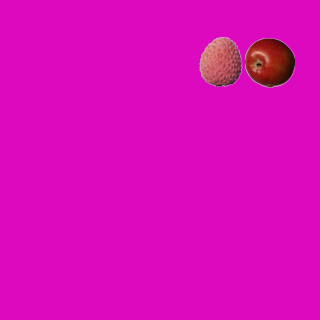Apple Braeburn: (244, 37, 294, 87)
Lychee: (195, 36, 245, 86)
